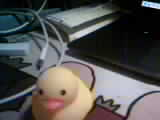duck: (20, 68, 94, 117)
